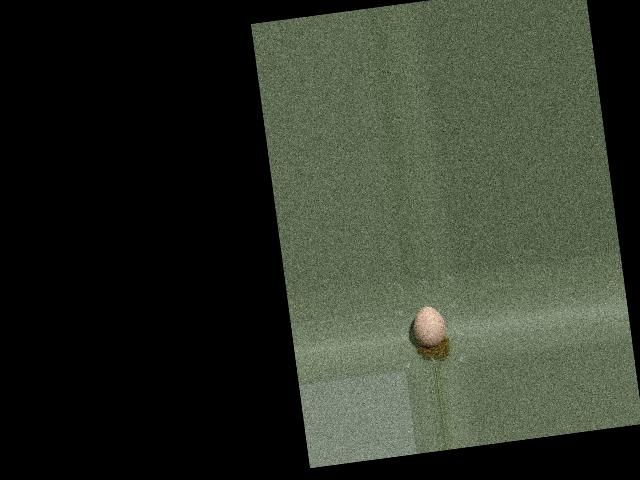egg: (411, 304, 447, 348)
